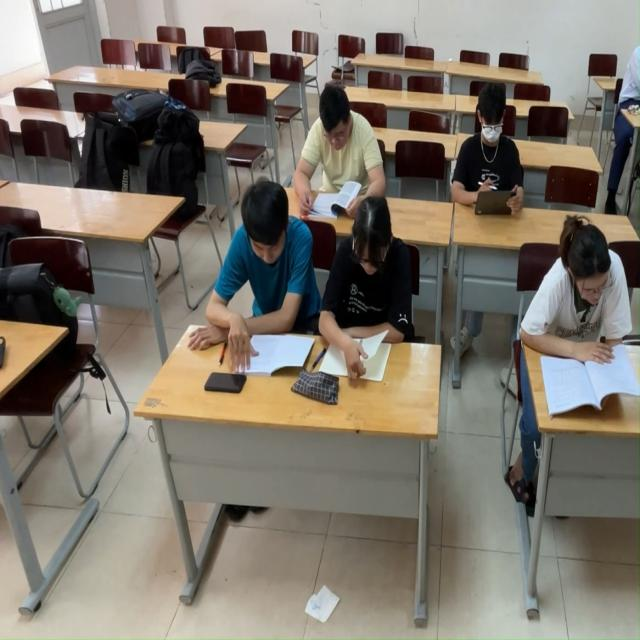read: (531, 211, 640, 420), (312, 200, 429, 391), (210, 174, 312, 372), (464, 76, 531, 225), (307, 83, 386, 208)
